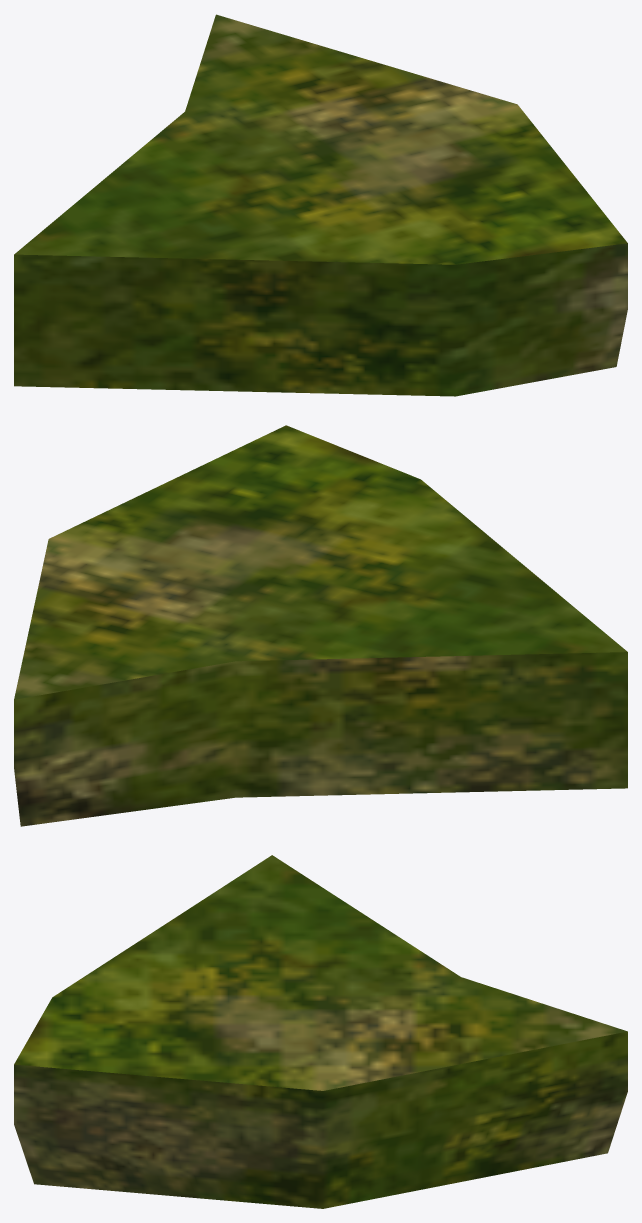
File: ANIMATEDINSTANCES_ROOF_FALL_03__AI.fbx
3 renders of one model, top to bottom at view 1: azimuth 30°, elevation 25°; view 2: azimuth 150°, elevation 25°; view 3: azimuth 270°, elevation 25°, orthographic. The views are drawn at different scales.
Parts seen in each view (by area): view 1: ANIMATEDINSTANCES_ROOF_FALL_03__AI; view 2: ANIMATEDINSTANCES_ROOF_FALL_03__AI; view 3: ANIMATEDINSTANCES_ROOF_FALL_03__AI.
Part boxes in pixels (bbox=[...]): ANIMATEDINSTANCES_ROOF_FALL_03__AI: bbox=[14, 14, 627, 396]; ANIMATEDINSTANCES_ROOF_FALL_03__AI: bbox=[14, 425, 627, 826]; ANIMATEDINSTANCES_ROOF_FALL_03__AI: bbox=[14, 855, 627, 1208].
Size of the model in its own units: 10560 by 2500 by 11610.
Materials: 1 (1 with a texture image).
